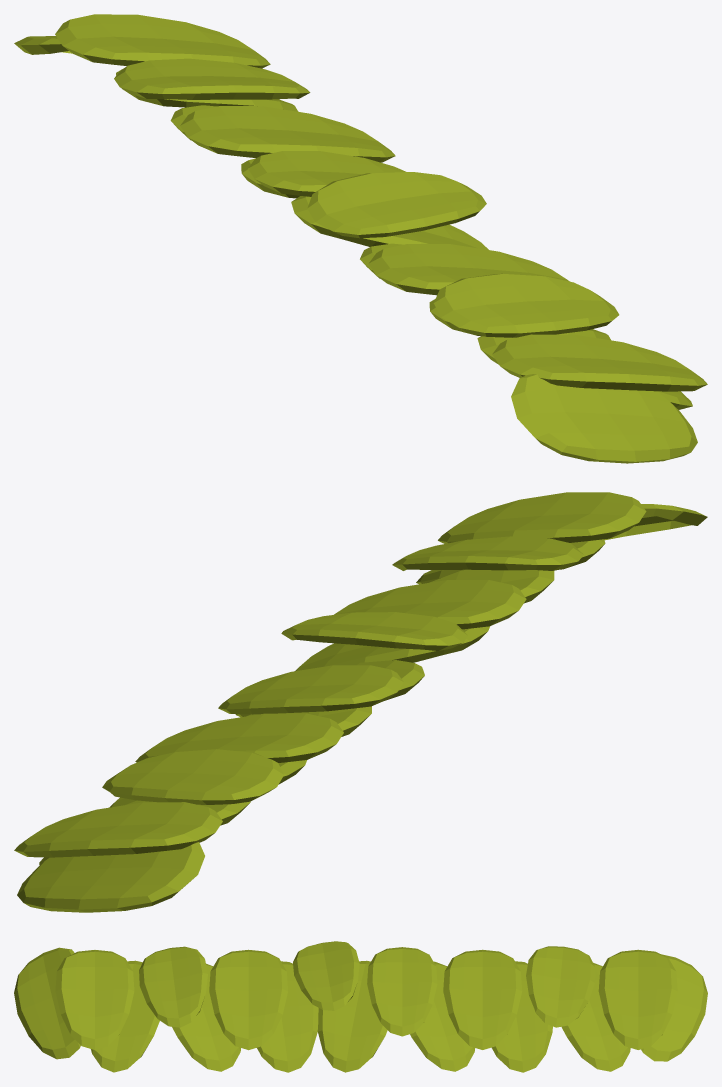
Rendered from grassside3.fbx.
The picture shows the model from 3 angles, top to bottom: view 1: azimuth 30°, elevation 25°; view 2: azimuth 150°, elevation 25°; view 3: azimuth 270°, elevation 25°; orthographic projection. The views are drawn at different scales.
Parts seen in each view (by area): view 1: sidegrass.002; view 2: sidegrass.002; view 3: sidegrass.002.
Boxes of the visible parts, x1=… form: sidegrass.002: x1=14, y1=14, x2=707, y2=463; sidegrass.002: x1=14, y1=492, x2=707, y2=912; sidegrass.002: x1=14, y1=941, x2=707, y2=1072.
Size of the model in its own units: 23.67 by 11.83 by 99.15.
